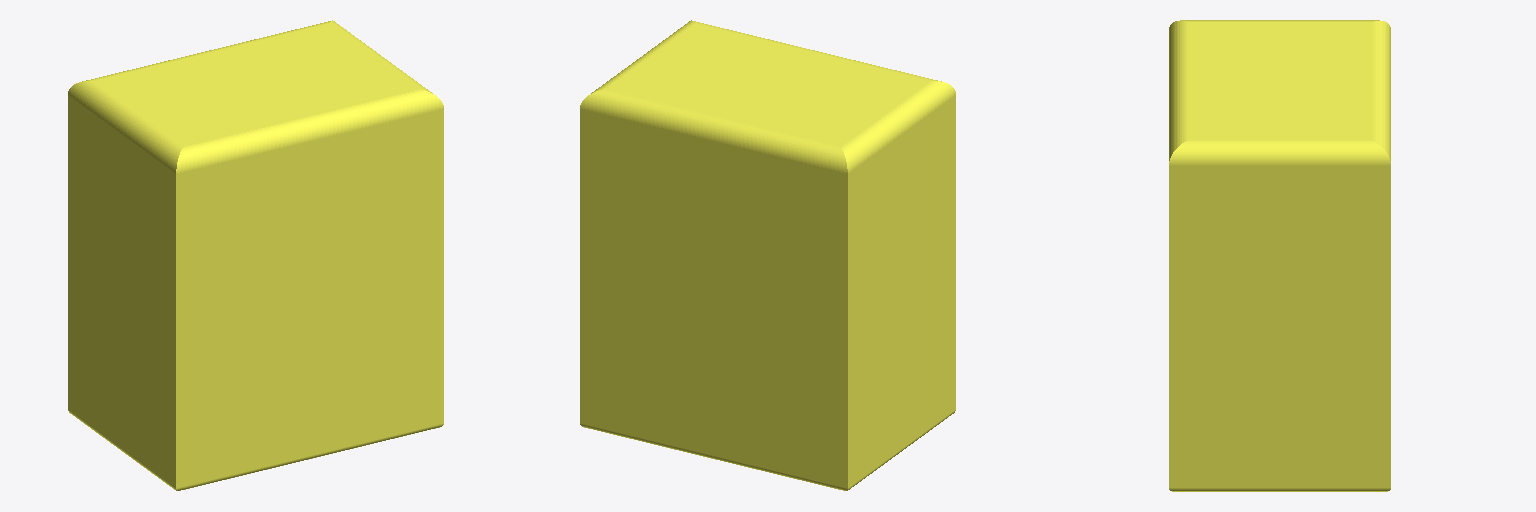
robot.urdf — cube:
<?xml version="1.0" ?>
<robot name="cube">
  <link name="legobrick">
    <contact>
      <lateral_friction value="1.0"/>
      <rolling_friction value="1.0"/>
      <contact_cfm value="0.0"/>
      <contact_erp value="1.0"/>
    </contact>
    <inertial>
      <origin rpy="0 0 0" xyz="0 0 0"/>
       <mass value="0.1"/>
       <inertia ixx="1" ixy="0" ixz="0" iyy="1" iyz="0" izz="1"/>
    </inertial>
    <visual>
      <origin rpy="0 0 0" xyz="0.0 0.0 0.0"/> 
      <!-- <origin rpy="0 0 0" xyz="0 0 0"/> -->
      <geometry>
        <mesh filename="cube.obj" scale="1 1 1"/>
      </geometry>
       <material name="yellow">
        <color rgba="1.0 1.0 0.4 1"/>
      </material>
    </visual>
    <collision>
      <origin rpy="0 0 0" xyz="0 0 0"/>
      <geometry>   
    	 <!--<box size="0.04 0.037 0.065"/>-->
    	  <mesh filename="cube.obj" scale="1 1 1"/> 
      </geometry>
    </collision>
  </link>
</robot>

--- What the picture shows (computed from the rendered views, not written in the file) ---
3 views of the same robot in one strip: view 1: azimuth 30°, elevation 25°; view 2: azimuth 150°, elevation 25°; view 3: azimuth 270°, elevation 25° (orthographic).
Model cube with 1 links and 0 joints (none), rooted at legobrick, posed all joints at 0.
Links seen in each view (by area): view 1: legobrick; view 2: legobrick; view 3: legobrick.
Link boxes in pixels (left/top/right/bottom): legobrick: left=68, top=20, right=443, bottom=490; legobrick: left=580, top=20, right=955, bottom=490; legobrick: left=1169, top=20, right=1390, bottom=491.
Bounding box of the posed robot: 0.05 × 0.035 × 0.06 m (x, y, z).
Meshes: 1 distinct files referenced, 1 mesh visuals loaded (1 OBJ).